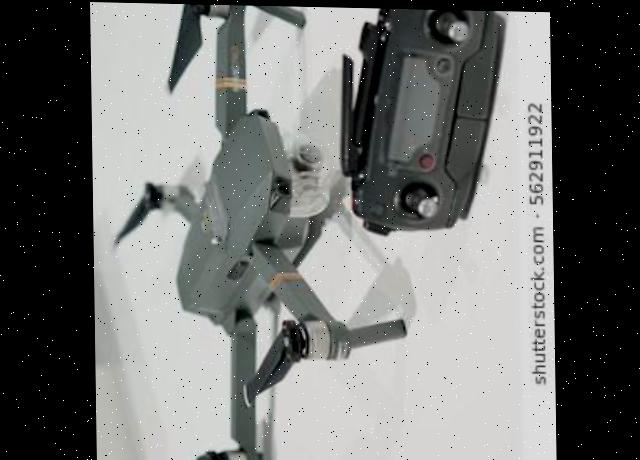drone: (106, 2, 423, 460)
